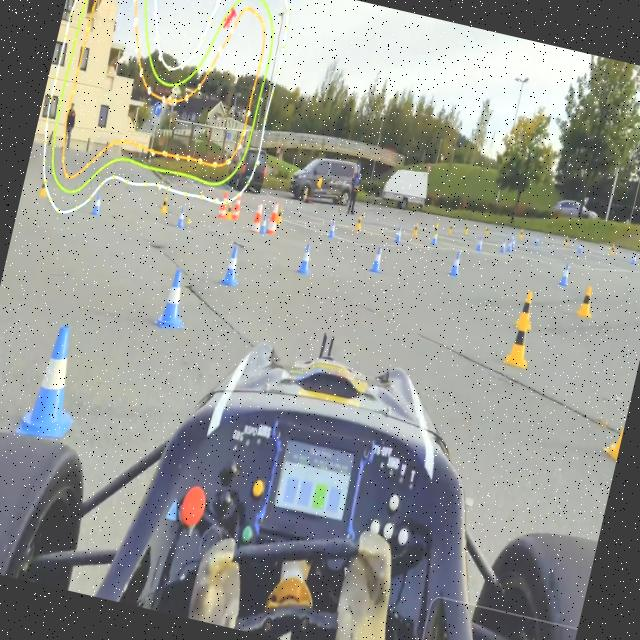blue_cone: (16, 318, 94, 446), (155, 266, 195, 331), (220, 245, 245, 288), (296, 243, 316, 275), (370, 244, 386, 272), (558, 260, 574, 286), (449, 250, 464, 276), (90, 192, 104, 217), (175, 205, 187, 229), (328, 218, 338, 238), (394, 224, 404, 243), (430, 228, 440, 246), (260, 212, 268, 234), (476, 234, 485, 250)
large_orange_cone: (265, 200, 282, 236), (250, 202, 264, 232), (230, 192, 243, 220), (218, 190, 230, 218)
yellow_cone: (600, 376, 634, 464), (503, 314, 537, 368), (514, 290, 538, 330), (576, 284, 598, 318), (38, 176, 50, 197), (274, 205, 286, 224), (160, 194, 170, 214), (224, 202, 235, 220), (354, 214, 364, 232)
